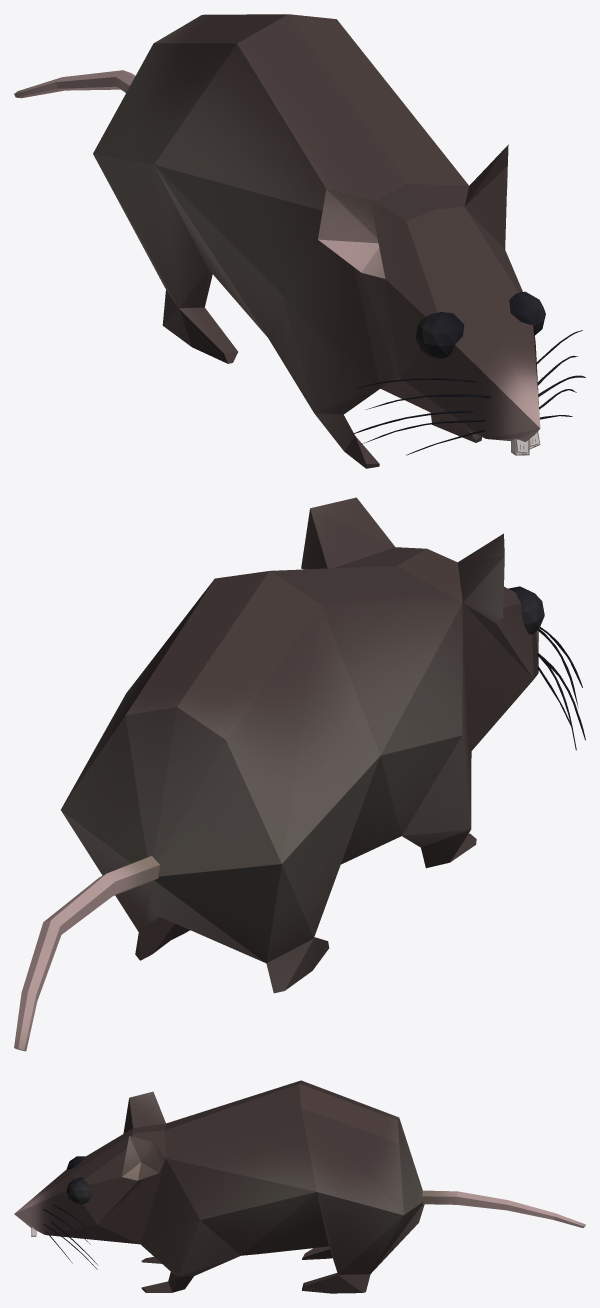
File: Mouse.glb
3 views of the same model, one above another, from view 1: azimuth 30°, elevation 25°; view 2: azimuth 150°, elevation 25°; view 3: azimuth 270°, elevation 25° (orthographic). The views are drawn at different scales.
Visible parts, largest first — view 1: Mouse; view 2: Mouse; view 3: Mouse.
Boxes of the visible parts, x1,y1,x2,y2 form: Mouse: (14,14,585,468); Mouse: (14,497,585,1051); Mouse: (14,1080,585,1293).
Size of the model in its own units: 4.44 by 6.07 by 16.26.
Materials: 1 (1 with a texture image).
